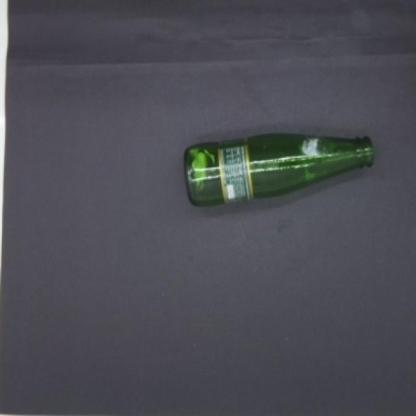Can: (184, 132, 375, 206)
